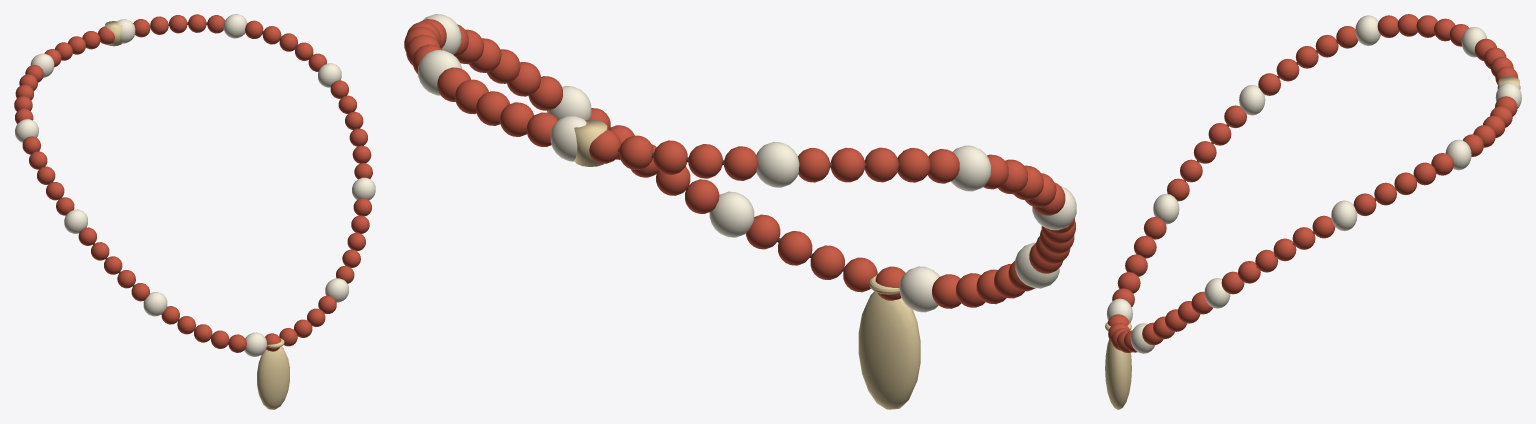
Rendered from beaded-necklace.glb.
The picture shows the model from 3 angles, left to right: view 1: azimuth 30°, elevation 25°; view 2: azimuth 150°, elevation 25°; view 3: azimuth 270°, elevation 25°; orthographic projection. The views are drawn at different scales.
Parts seen in each view (by area): view 1: CharmBody, Accent_023, Accent_053, Accent_029, Accent_017, Accent_005, Accent_059, Accent_011, Accent_035, Accent_041, Accent_047; view 2: CharmBody, Accent_041, Accent_011, Accent_017, Accent_035, Accent_053, Accent_047, Bead_043, Bead_013, Bead_014, Bead_038, Bead_044 (+31 smaller); view 3: CharmBody, Accent_059, Accent_029, Accent_035, Accent_023, Accent_005, Accent_053, Accent_041, Accent_011, Bead_001, Bead_031, Bead_026 (+25 smaller).
Part boxes in pixels (<box>): CharmBody: <box>257,346,289,409</box>; Accent_023: <box>143,292,167,316</box>; Accent_053: <box>223,14,247,38</box>; Accent_029: <box>64,209,87,233</box>; Accent_017: <box>244,332,266,356</box>; Accent_005: <box>352,177,375,200</box>; Accent_059: <box>318,63,341,87</box>; Accent_011: <box>325,278,348,302</box>; Accent_035: <box>15,119,38,142</box>; Accent_041: <box>30,53,54,77</box>; Accent_047: <box>116,19,135,43</box>; CharmBody: <box>858,291,920,409</box>; Accent_041: <box>756,142,799,187</box>; Accent_011: <box>709,191,754,237</box>; Accent_017: <box>899,266,939,312</box>; Accent_035: <box>951,145,990,191</box>; Accent_053: <box>418,50,462,95</box>; Accent_047: <box>550,115,586,161</box>; Bead_043: <box>688,144,722,178</box>; Bead_013: <box>778,231,812,265</box>; Bead_014: <box>810,245,844,279</box>; Bead_038: <box>864,147,898,182</box>; Bead_044: <box>653,140,687,174</box>; CharmBody: <box>1105,339,1131,409</box>; Accent_059: <box>1331,200,1357,231</box>; Accent_029: <box>1239,85,1265,115</box>; Accent_035: <box>1355,15,1380,45</box>; Accent_023: <box>1153,193,1179,224</box>; Accent_005: <box>1204,278,1230,308</box>; Accent_053: <box>1445,139,1471,170</box>; Accent_041: <box>1461,26,1487,57</box>; Accent_011: <box>1130,323,1155,353</box>; Bead_001: <box>1273,238,1296,261</box>; Bead_031: <box>1276,59,1299,81</box>; Bead_026: <box>1193,141,1216,163</box>.
Bounding box in the file's own units: 0.1647 × 0.1342 × 0.1531.
